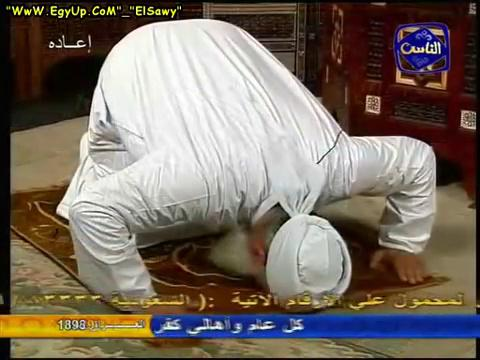sujud: (57, 18, 436, 315)
